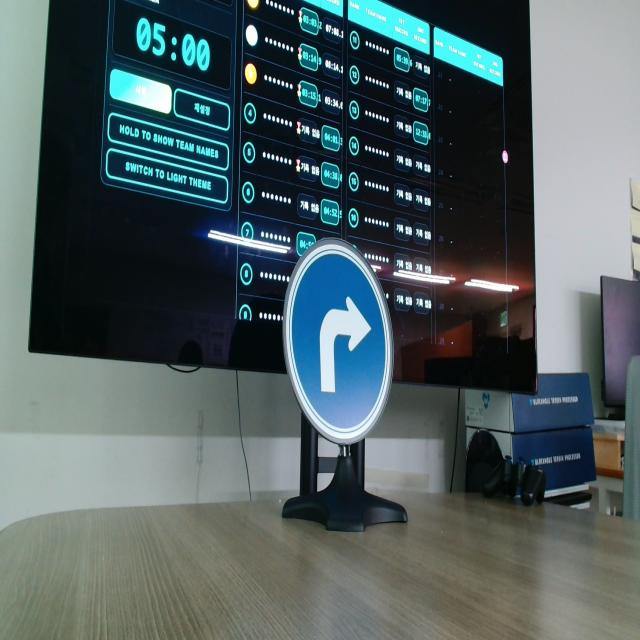right_dierection: (284, 236, 395, 444)
